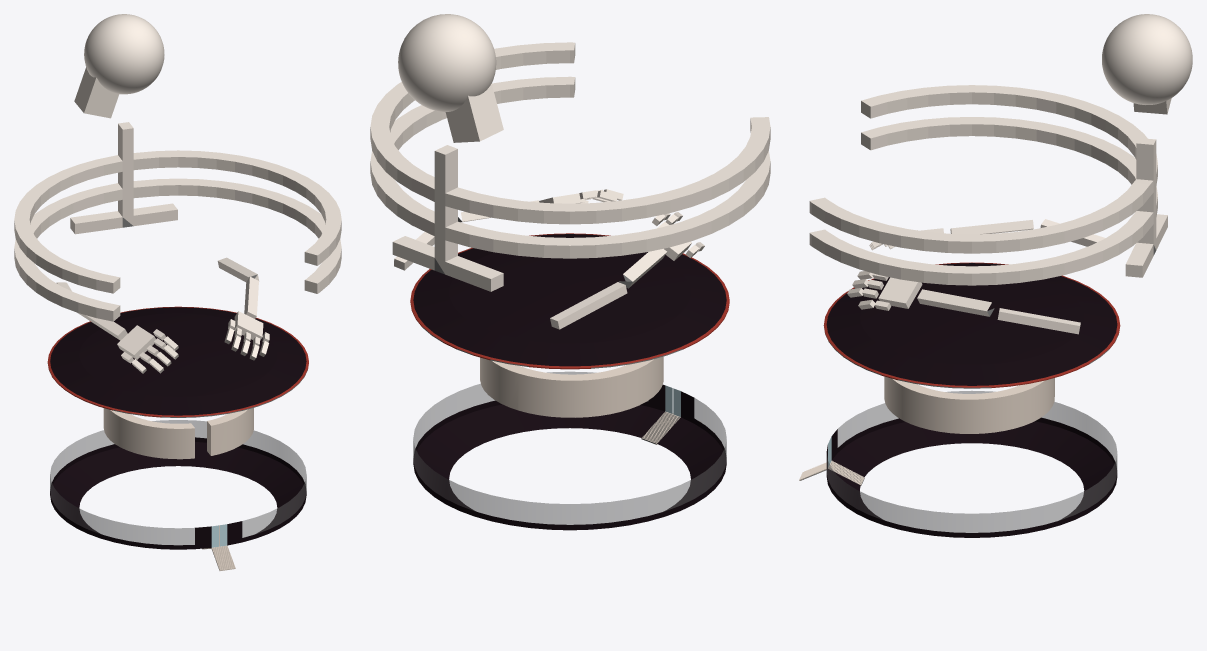
Rendered from pzdc.gltf.
The picture shows the model from 3 angles, left to right: view 1: azimuth 30°, elevation 25°; view 2: azimuth 150°, elevation 25°; view 3: azimuth 270°, elevation 25°; orthographic projection. The views are drawn at different scales.
Parts seen in each view (by area): view 1: root, object 9, object 7, object 6, object 4, object 2, object 3; view 2: root, object 9, object 7, object 6, object 4, object 5, object 2; view 3: root, object 9, object 7, object 6, object 2, object 3, object 4.
Part boxes in pixels (left/top/right/bottom): root: left=14, top=14, right=341, bottom=321; object 9: left=47, top=306, right=308, bottom=417; object 7: left=50, top=420, right=306, bottom=569; object 6: left=103, top=408, right=253, bottom=459; object 4: left=78, top=313, right=178, bottom=373; object 2: left=224, top=276, right=269, bottom=360; object 3: left=217, top=257, right=259, bottom=282; root: left=370, top=14, right=770, bottom=291; object 9: left=410, top=233, right=729, bottom=369; object 7: left=413, top=371, right=726, bottom=530; object 6: left=480, top=356, right=663, bottom=417; object 4: left=619, top=212, right=704, bottom=288; object 5: left=550, top=282, right=627, bottom=329; object 2: left=458, top=189, right=623, bottom=222; root: left=809, top=14, right=1192, bottom=285; object 9: left=823, top=262, right=1120, bottom=388; object 7: left=800, top=391, right=1117, bottom=537; object 6: left=884, top=376, right=1054, bottom=433; object 2: left=847, top=271, right=994, bottom=316; object 3: left=997, top=308, right=1080, bottom=334; object 4: left=869, top=220, right=1033, bottom=250.
Size of the model in its own units: 114 by 198 by 121.
Materials: 7 (1 with a texture image).
